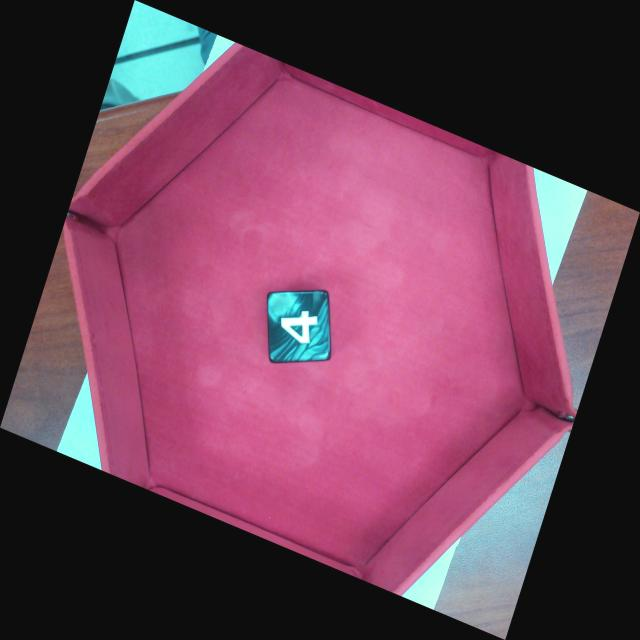dice: (266, 289, 331, 364)
